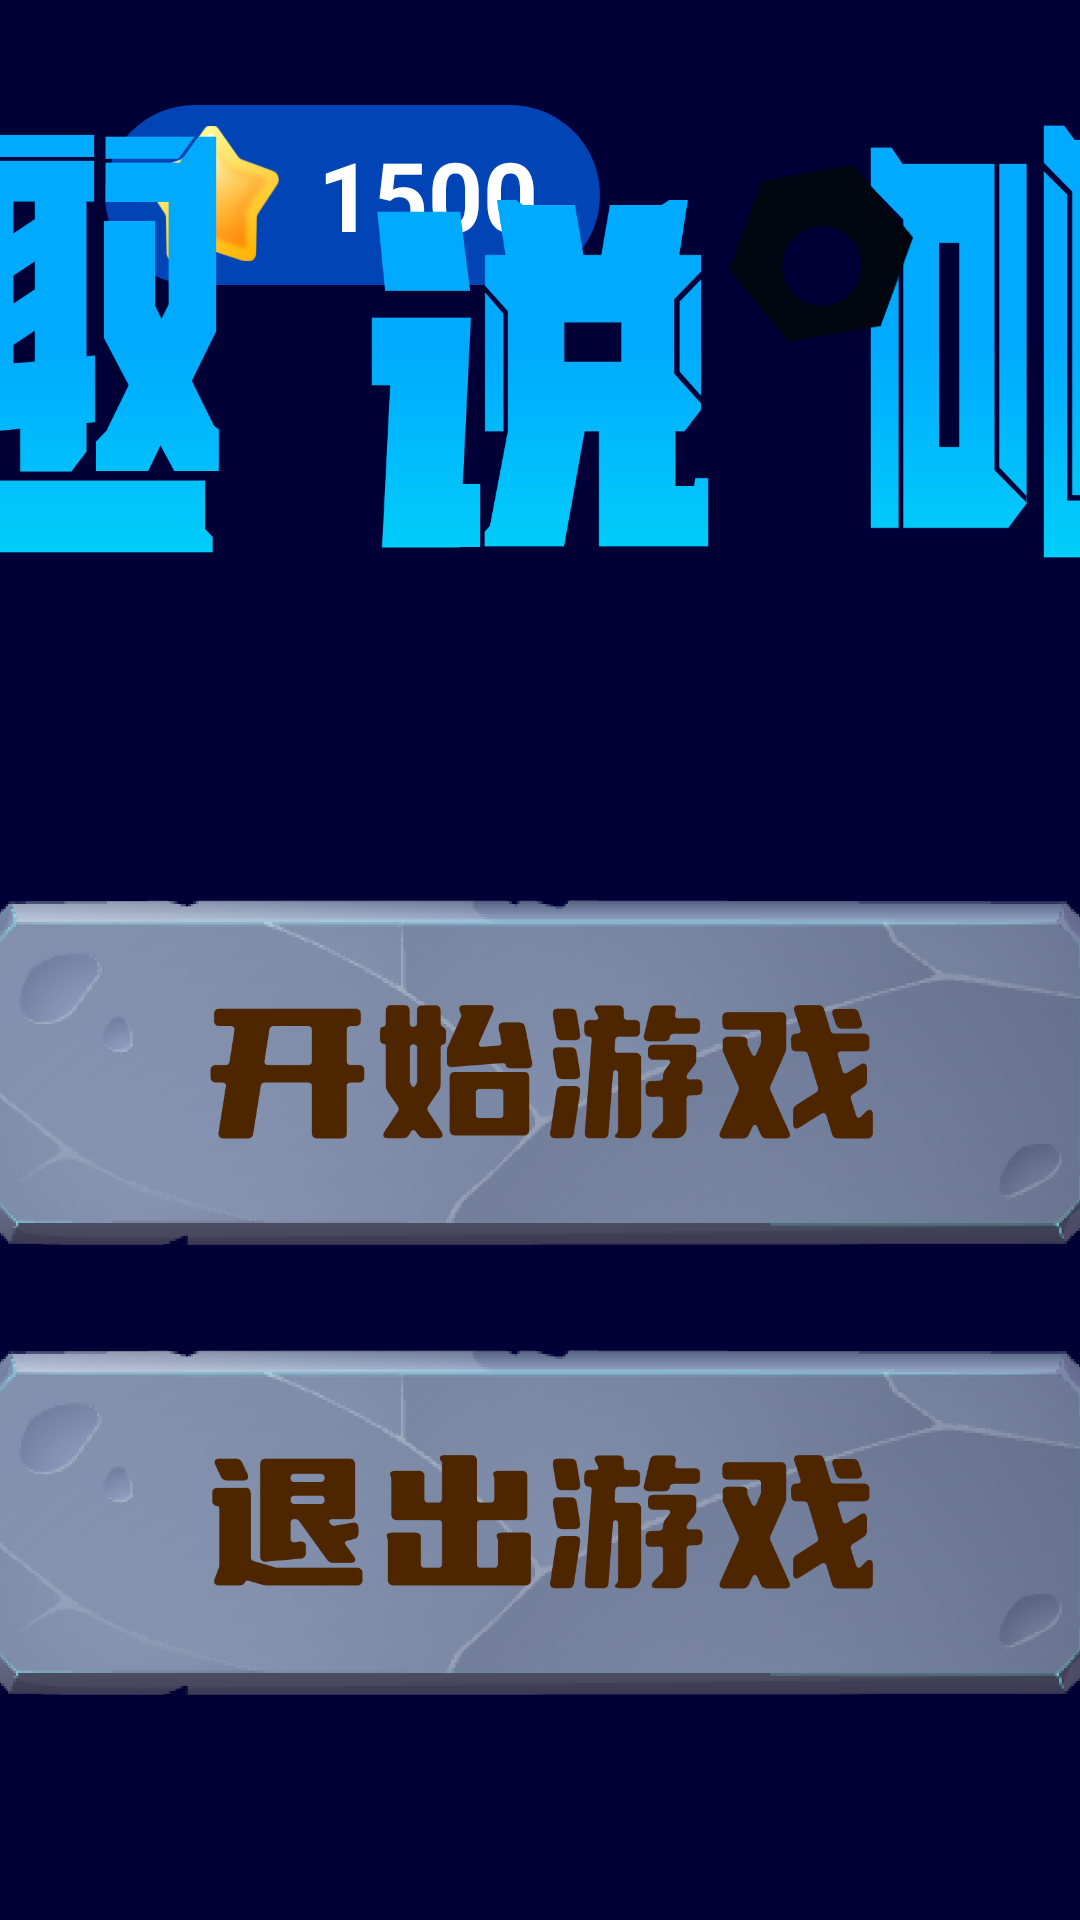

Icons on this 1080px x 1920px Android screen, each with its box as (x1, y1, x2, y2):
settingbtn: (729, 165, 915, 345)
starnum: (144, 126, 279, 261)
